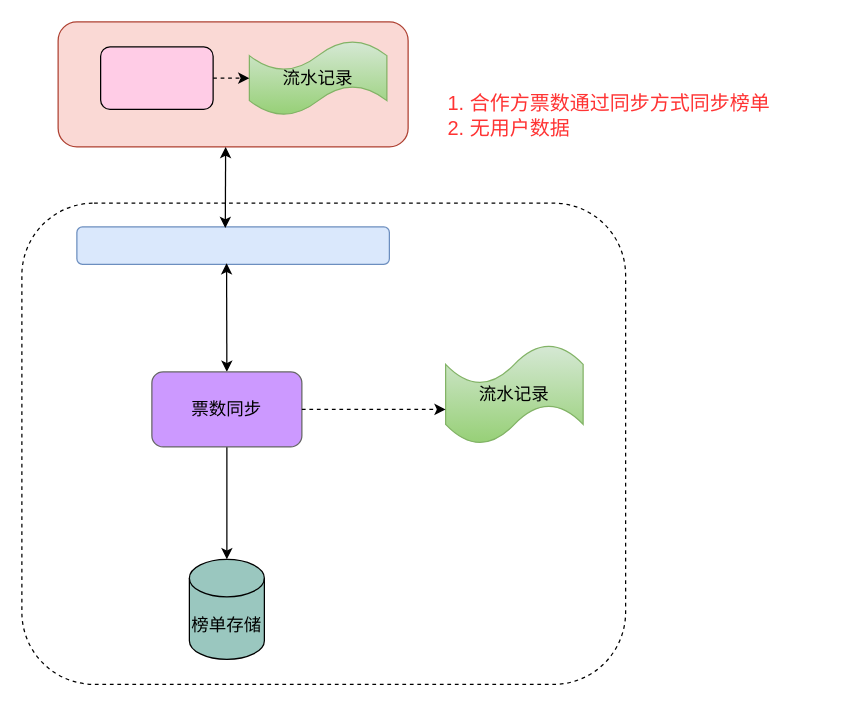
The diagram is 843 pixels wide and 706 high, and some of its shapes have lost their labels. Here are the shapes that lost their labels. From the top down, the centre of each, then its label:
At point (156, 77): "合作方业务".
At point (232, 245): "接入层".
